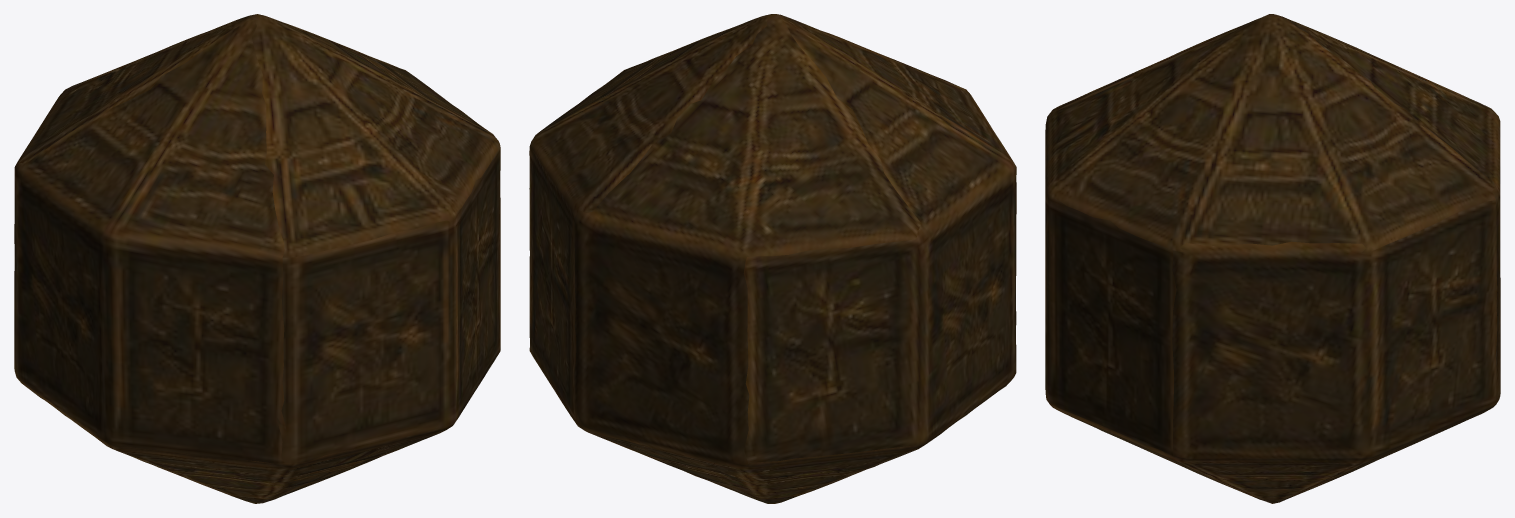
The model's file is fs_mark_rune.glb.
3 renders of one model, left to right at view 1: azimuth 30°, elevation 25°; view 2: azimuth 150°, elevation 25°; view 3: azimuth 270°, elevation 25°, orthographic.
Parts seen in each view (by area): view 1: geometry_0; view 2: geometry_0; view 3: geometry_0.
Boxes of the visible parts, x1,y1,x2,y2 form: geometry_0: (14,14,500,503); geometry_0: (529,14,1016,503); geometry_0: (1045,14,1500,503).
Bounding box in the file's own units: 0.8538 × 1 × 0.8527.
Materials: 1 (1 with a texture image).
